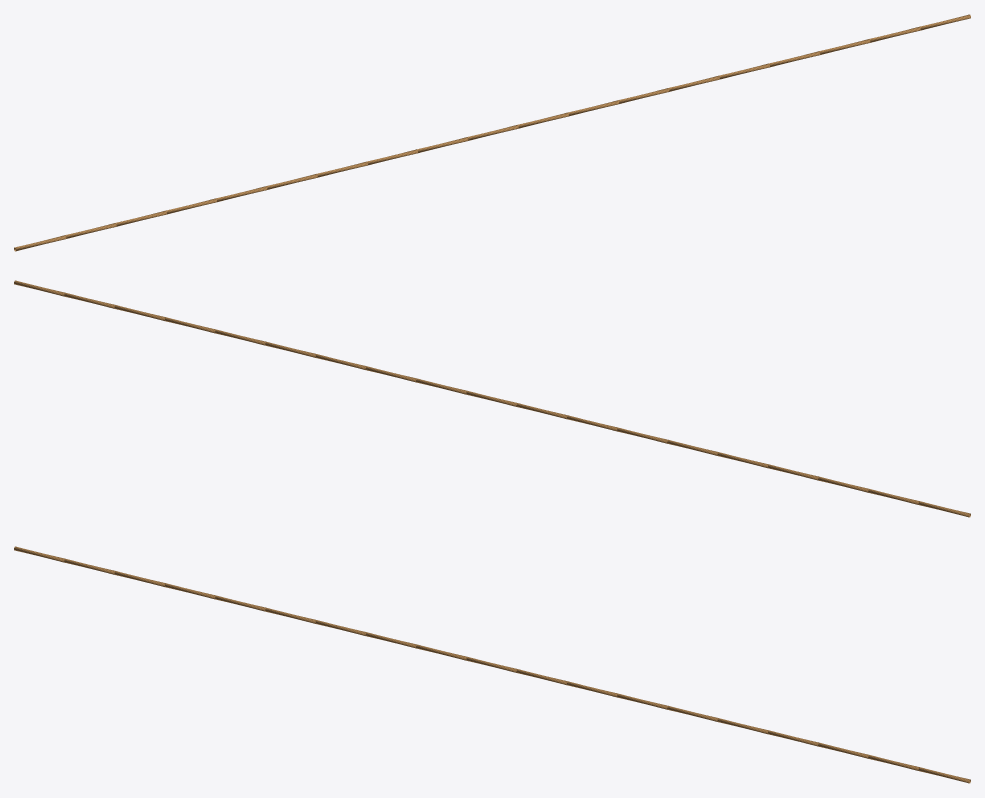
The model's file is cuerda.fbx.
The picture shows the model from 3 angles, top to bottom: view 1: azimuth 30°, elevation 25°; view 2: azimuth 150°, elevation 25°; view 3: azimuth 330°, elevation 25°; orthographic projection.
Parts seen in each view (by area): view 1: Circle; view 2: Circle; view 3: Circle.
Boxes of the visible parts, bbox=[...] form: Circle: bbox=[14, 14, 970, 251]; Circle: bbox=[14, 280, 970, 517]; Circle: bbox=[14, 546, 970, 783].
Bounding box in the file's own units: 4512 × 17.06 × 17.06.
